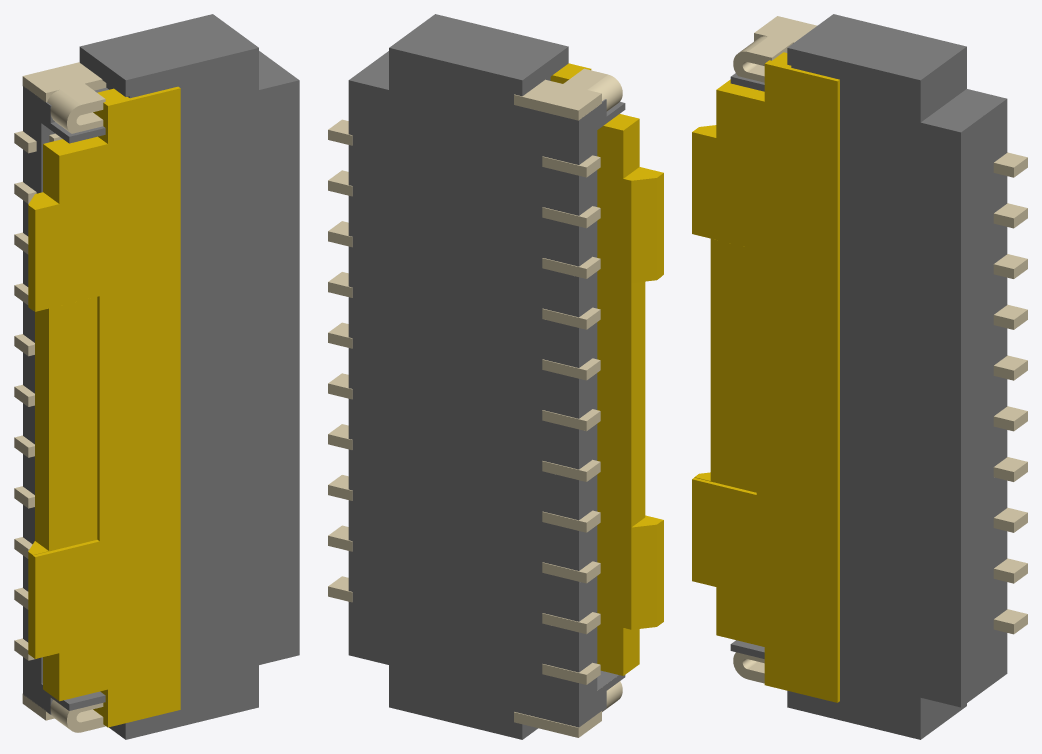
File: Hirose_FH26-21S-0.3SHW_2Rows-21Pins-1MP_P0.60mm_Horizontal.glb
3 renders of one model, left to right at view 1: azimuth 30°, elevation 25°; view 2: azimuth 150°, elevation 25°; view 3: azimuth 330°, elevation 25°, orthographic.
Parts seen in each view (by area): view 1: Shape_IndexedFaceSet.004, Shape_IndexedFaceSet.031, Shape_IndexedFaceSet.034, Shape_IndexedFaceSet.001, Shape_IndexedFaceSet.014, Shape_IndexedFaceSet.049, Shape_IndexedFaceSet.216, Shape_IndexedFaceSet.046, Shape_IndexedFaceSet.002, Shape_IndexedFaceSet.044, Shape_IndexedFaceSet.029, Shape_IndexedFaceSet.005 (+7 smaller); view 2: Shape_IndexedFaceSet.003, Shape_IndexedFaceSet.032, Shape_IndexedFaceSet.014, Shape_IndexedFaceSet.001, Shape_IndexedFaceSet.049, Shape_IndexedFaceSet.030, Shape_IndexedFaceSet.050, Shape_IndexedFaceSet.216, Shape_IndexedFaceSet.046, Shape_IndexedFaceSet.002, Shape_IndexedFaceSet.005, Shape_IndexedFaceSet.029 (+5 smaller); view 3: Shape_IndexedFaceSet.004, Shape_IndexedFaceSet.031, Shape_IndexedFaceSet.006, Shape_IndexedFaceSet.034, Shape_IndexedFaceSet.001, Shape_IndexedFaceSet, Shape_IndexedFaceSet.002, Shape_IndexedFaceSet.038, Shape_IndexedFaceSet.216, Shape_IndexedFaceSet.008, Shape_IndexedFaceSet.195.
Part boxes in pixels (<box>): Shape_IndexedFaceSet.004: <box>69,48,299,739</box>; Shape_IndexedFaceSet.031: <box>35,88,180,727</box>; Shape_IndexedFaceSet.034: <box>33,297,97,555</box>; Shape_IndexedFaceSet.001: <box>80,14,258,80</box>; Shape_IndexedFaceSet.014: <box>23,86,69,714</box>; Shape_IndexedFaceSet.049: <box>35,308,48,550</box>; Shape_IndexedFaceSet.216: <box>23,62,104,104</box>; Shape_IndexedFaceSet.046: <box>43,144,59,203</box>; Shape_IndexedFaceSet.002: <box>259,51,298,89</box>; Shape_IndexedFaceSet.044: <box>28,205,35,311</box>; Shape_IndexedFaceSet.029: <box>28,552,35,658</box>; Shape_IndexedFaceSet.005: <box>79,47,125,96</box>; Shape_IndexedFaceSet.003: <box>348,48,578,739</box>; Shape_IndexedFaceSet.032: <box>550,75,631,675</box>; Shape_IndexedFaceSet.014: <box>579,99,625,727</box>; Shape_IndexedFaceSet.001: <box>389,14,568,80</box>; Shape_IndexedFaceSet.049: <box>631,281,645,527</box>; Shape_IndexedFaceSet.030: <box>631,524,656,629</box>; Shape_IndexedFaceSet.050: <box>631,178,656,282</box>; Shape_IndexedFaceSet.216: <box>514,68,607,110</box>; Shape_IndexedFaceSet.046: <box>623,119,639,178</box>; Shape_IndexedFaceSet.002: <box>349,51,388,89</box>; Shape_IndexedFaceSet.005: <box>522,47,568,95</box>; Shape_IndexedFaceSet.029: <box>657,520,663,626</box>; Shape_IndexedFaceSet.004: <box>730,48,960,739</box>; Shape_IndexedFaceSet.031: <box>692,63,837,702</box>; Shape_IndexedFaceSet.006: <box>961,99,1007,707</box>; Shape_IndexedFaceSet.034: <box>694,238,756,492</box>; Shape_IndexedFaceSet.001: <box>787,14,966,80</box>; Shape_IndexedFaceSet: <box>920,46,966,122</box>; Shape_IndexedFaceSet.002: <box>921,89,1006,132</box>; Shape_IndexedFaceSet.038: <box>837,80,839,702</box>; Shape_IndexedFaceSet.216: <box>748,16,816,57</box>; Shape_IndexedFaceSet.008: <box>920,698,966,739</box>; Shape_IndexedFaceSet.195: <box>733,51,771,82</box>.
Size of the model in its own units: 1.4 by 3.07 by 0.4134.
